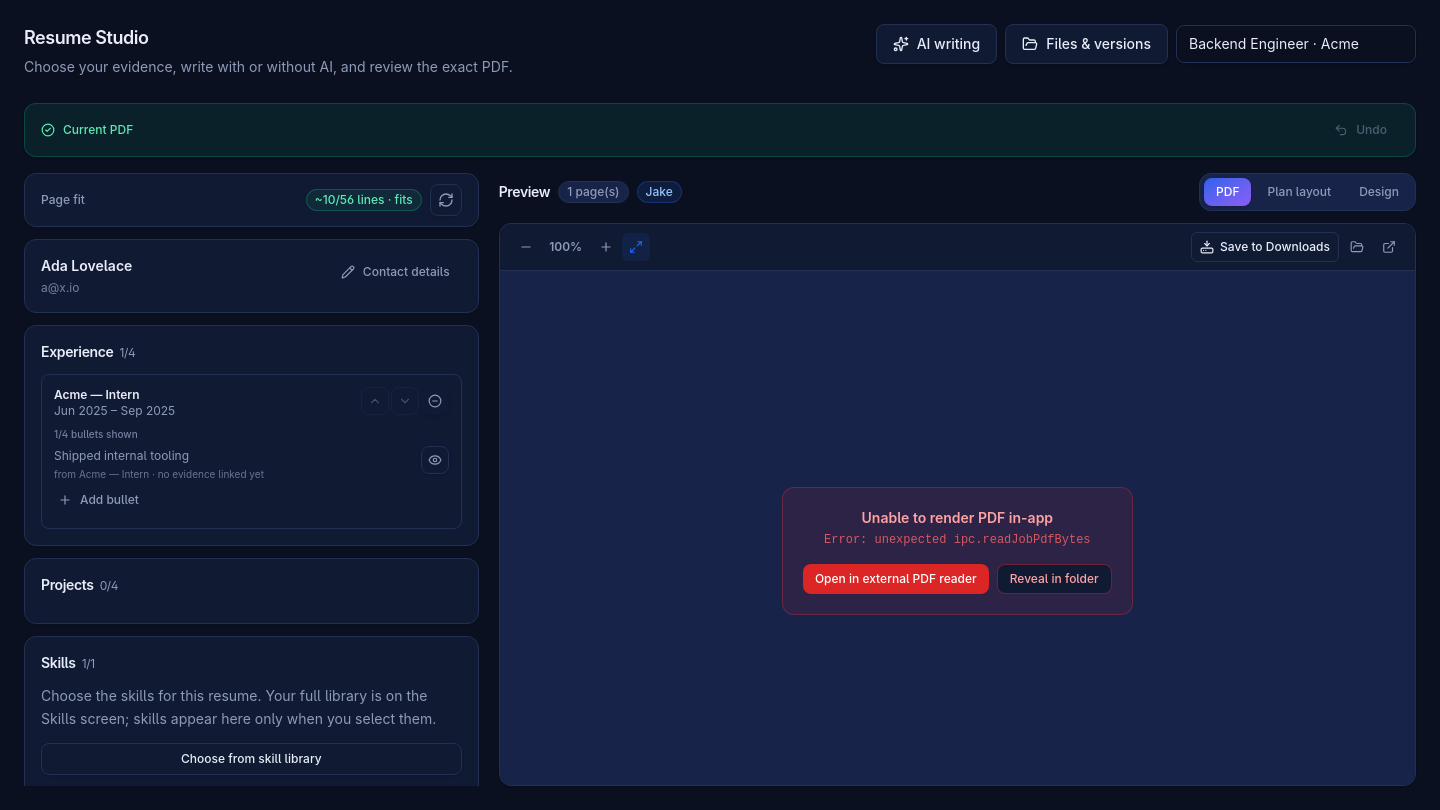
Test: journey · exporting a PDF › a failed export keeps the previous PDF and says so
Expected: the message "Current PDF Undo" is shown, [24,103,1416,157]
Expected: the message with test id "studio-status" shows "Current PDF", [63,122,133,137]
Click the button "Files & versions": (1087, 44) [1005,24,1168,64]
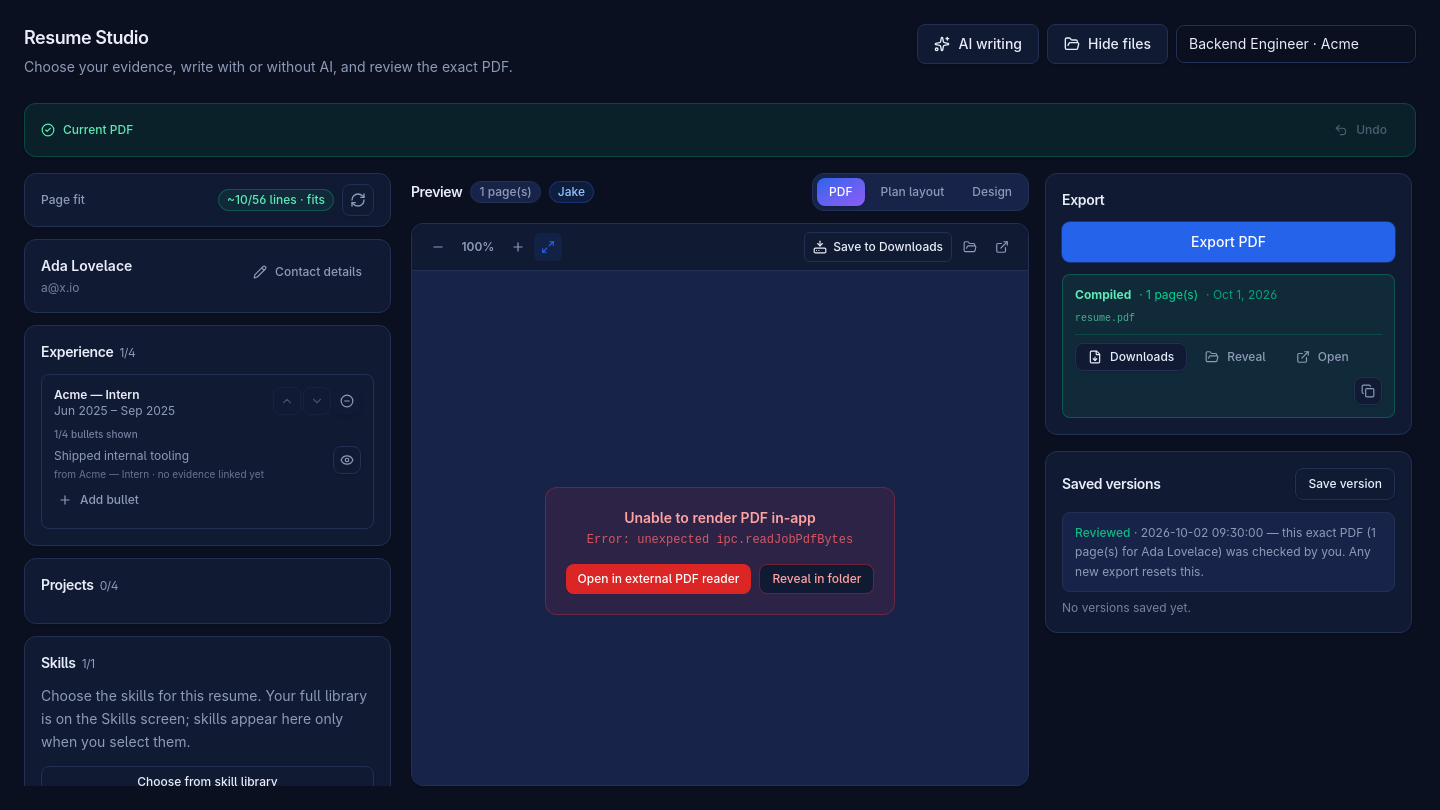
Click the button "Export PDF": (1229, 242) [1062,222,1395,262]
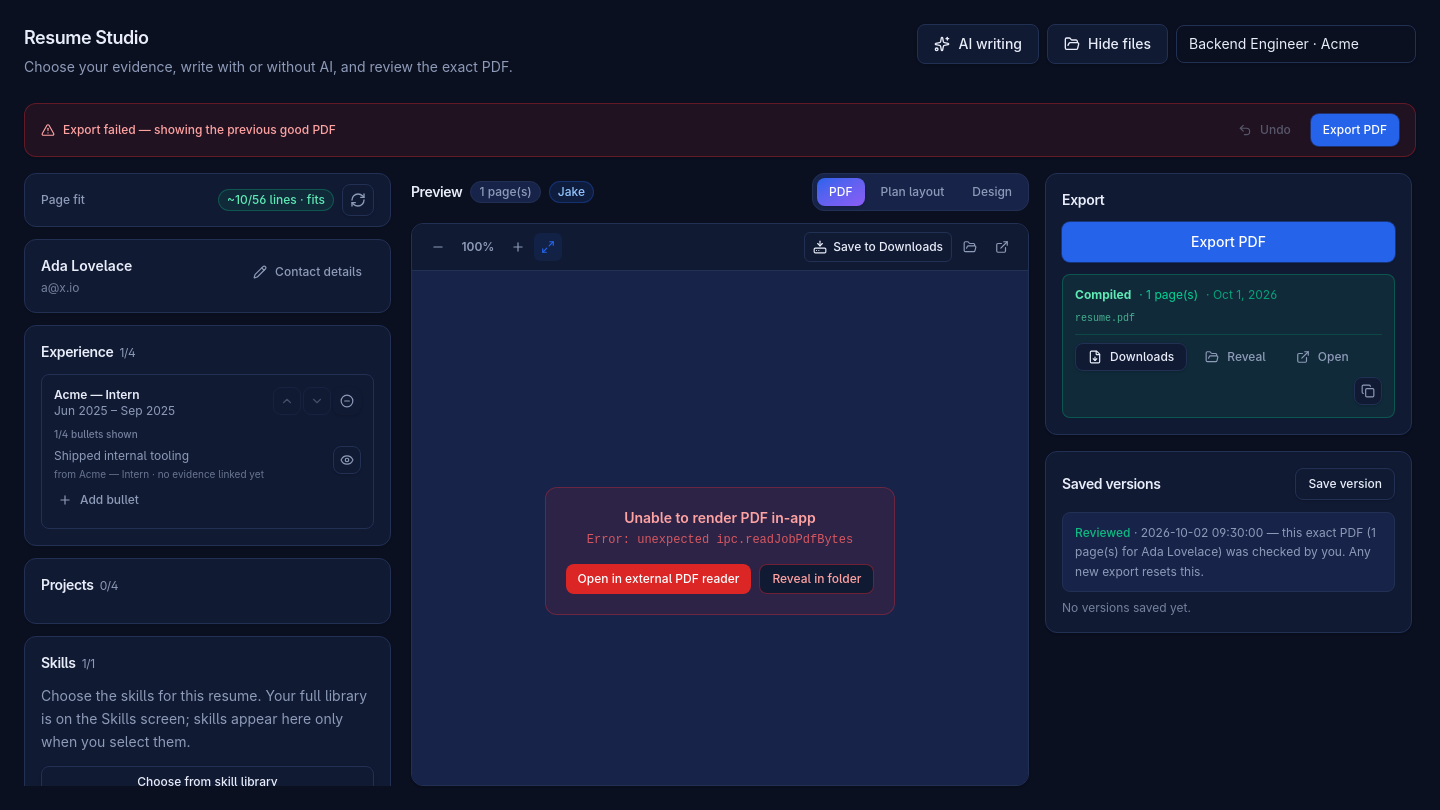
Expected: the message with test id "studio-status" shows "Export failed", [63,122,336,137]
Expected: the message with test id "studio-status" shows "previous", [63,122,336,137]
